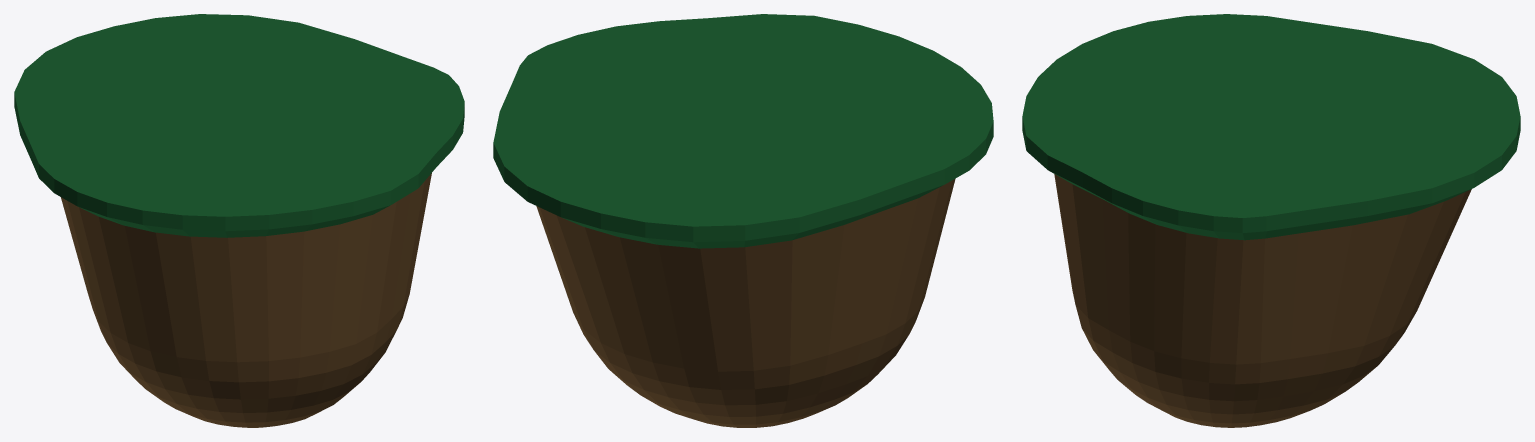
File: island_2.fbx
3 views of the same model, side by side, from view 1: azimuth 30°, elevation 25°; view 2: azimuth 150°, elevation 25°; view 3: azimuth 270°, elevation 25° (orthographic). The views are drawn at different scales.
Parts seen in each view (by area): view 1: Cylinder; view 2: Cylinder; view 3: Cylinder.
Part boxes in pixels (bbox=[...]): Cylinder: bbox=[14, 14, 464, 427]; Cylinder: bbox=[493, 14, 993, 427]; Cylinder: bbox=[1022, 14, 1520, 427].
Size of the model in its own units: 1548 by 1052 by 1596.
